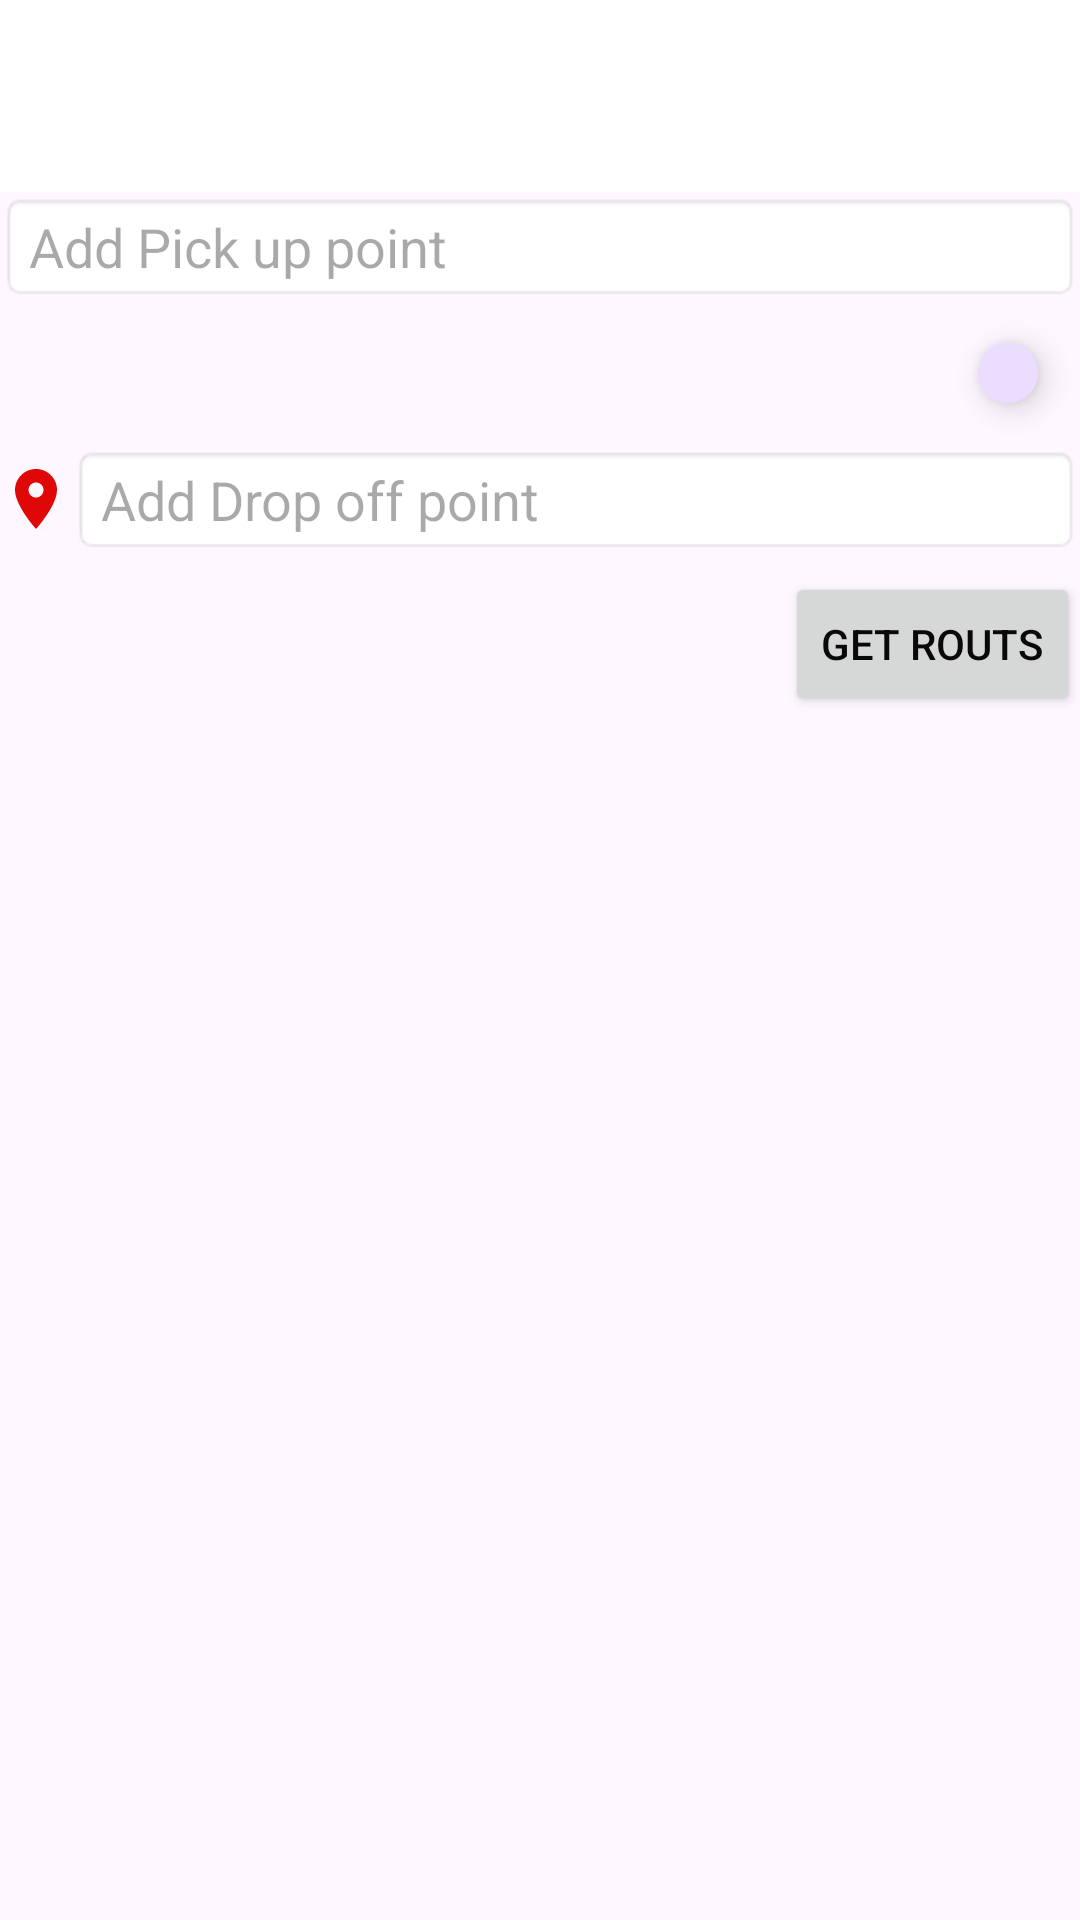

Locate icon controls on the screen. Image size 1080 × 1920, boxes as [left=x1, top=y1, right=x2, bottom=y2].
drop location: [left=15, top=469, right=57, bottom=529]
